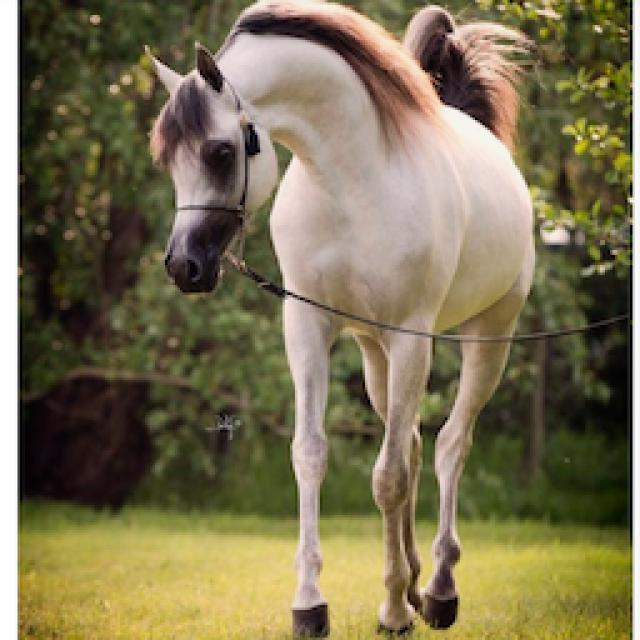Horse: (140, 0, 545, 638)
